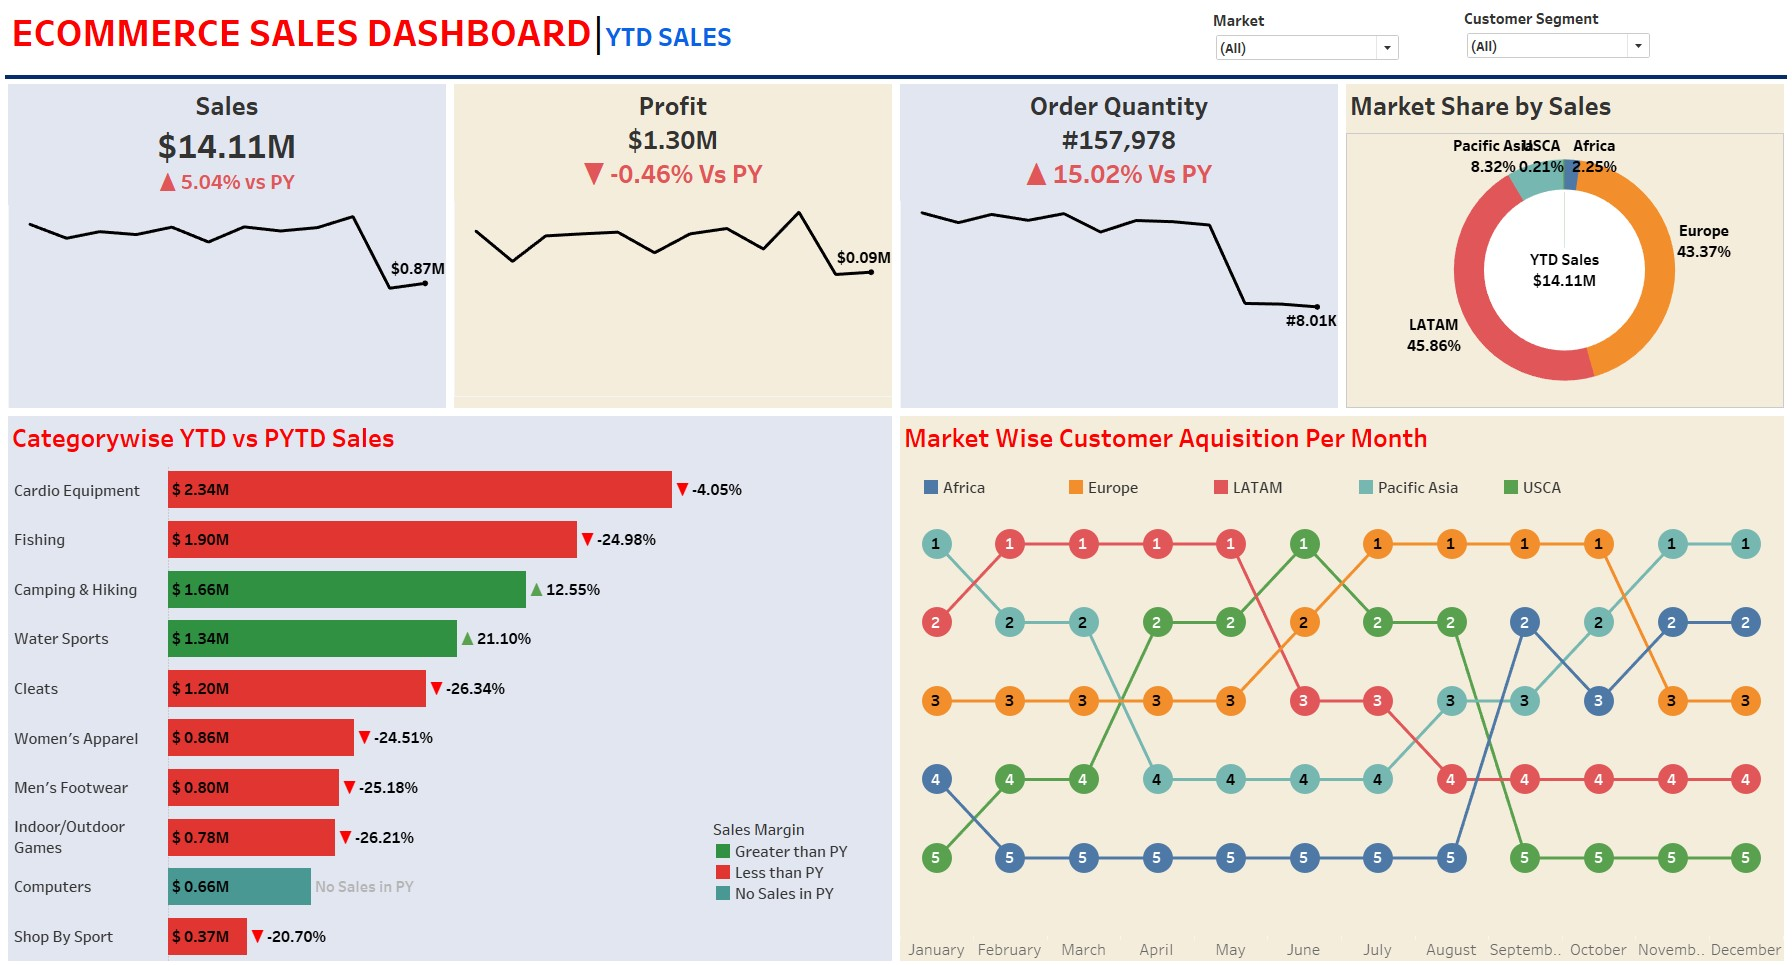

What the dashboard file says about the page in this screenshot:
{"tool":"tableau","page":{"name":"Ecommerce Sales Dashboard","canvas":[1000,1000],"units":"permille","ordinal":0},"visuals":[{"type":"title","box":[4.8,10,990.4,107.4]},{"type":"filter","title":"Sales KPI","param":"[federated.0mlt74t1dsh9g61cbzl6a0b9z4l6].[none:Customer Segment:nk]","box":[815.6,28.7,105,66.1]},{"type":"filter","title":"Sales KPI","param":"[federated.0mlt74t1dsh9g61cbzl6a0b9z4l6].[none:Market:nk]","box":[676.2,29.9,105,64.8]},{"type":"blank","box":[4.8,117.4,990.4,7.5]},{"type":"worksheet","title":"Sales KPI","mark":"Automatic","rows":["Sales"],"cols":["Order Date"],"box":[4.8,124.8,247.6,309.6]},{"type":"worksheet","title":"Profit KPI","mark":"Automatic","rows":["Profit Per Order"],"cols":["Order Date"],"box":[252.4,124.8,247.6,309.6]},{"type":"worksheet","title":"Order Quantity","mark":"Automatic","rows":["Order Quantity"],"cols":["Order Date"],"box":[500,124.8,247.6,309.6]},{"type":"worksheet","title":"Market Share by Sales","mark":"Pie","cols":["Calculation_2694841442478129153","Calculation_2694841442478161923"],"box":[747.6,124.8,247.6,309.6]},{"type":"worksheet","title":"Categorywise YTD vs PYTD Sales","mark":"Bar","rows":["Category Name"],"cols":["Calculation_2694841442478743556","Calculation_2694841442478743556"],"box":[4.8,435,495.1,555]},{"type":"worksheet","title":"Market Wise Customer Aquisition Per Month","mark":"Automatic","cols":["Order Date"],"box":[499.9,435,495.3,555]},{"type":"legend","title":"Market Wise Customer Aquisition Per Month","param":"[federated.0mlt74t1dsh9g61cbzl6a0b9z4l6].[none:Market:nk]","box":[513.8,500,465.6,34.9]},{"type":"legend","title":"Categorywise YTD vs PYTD Sales","param":"[federated.0mlt74t1dsh9g61cbzl6a0b9z4l6].[usr:Calculation_2694841444825841671:nk","box":[398.1,845.4,87.5,106]}]}

Visuals, with their boxes on the dashboard's canvas, which has no fixed pixel size, in thousandths of its width and height (x1, y1, x2, y2). These are canvas units, not pixel positions in the 1792x965 screenshot, which may show the page scaled, cropped or inside an application window:
title: {"left": 5, "top": 10, "right": 995, "bottom": 117}
"Sales KPI" filter: {"left": 816, "top": 29, "right": 921, "bottom": 95}
"Sales KPI" filter: {"left": 676, "top": 30, "right": 781, "bottom": 95}
blank: {"left": 5, "top": 117, "right": 995, "bottom": 125}
"Sales KPI" worksheet: {"left": 5, "top": 125, "right": 252, "bottom": 434}
"Profit KPI" worksheet: {"left": 252, "top": 125, "right": 500, "bottom": 434}
"Order Quantity" worksheet: {"left": 500, "top": 125, "right": 748, "bottom": 434}
"Market Share by Sales" worksheet (Pie marks): {"left": 748, "top": 125, "right": 995, "bottom": 434}
"Categorywise YTD vs PYTD Sales" worksheet (Bar marks): {"left": 5, "top": 435, "right": 500, "bottom": 990}
"Market Wise Customer Aquisition Per Month" worksheet: {"left": 500, "top": 435, "right": 995, "bottom": 990}
"Market Wise Customer Aquisition Per Month" legend: {"left": 514, "top": 500, "right": 979, "bottom": 535}
"Categorywise YTD vs PYTD Sales" legend: {"left": 398, "top": 845, "right": 486, "bottom": 951}
